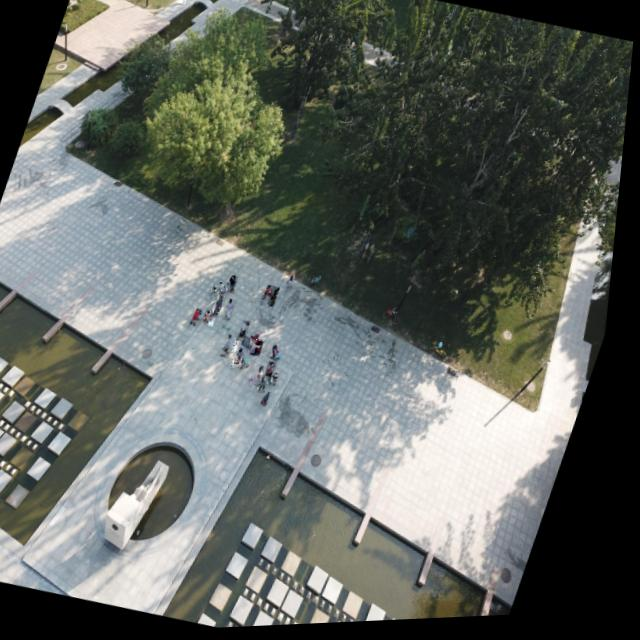Person: (225, 334, 242, 362), (216, 296, 231, 320), (229, 301, 244, 323), (254, 341, 271, 360), (272, 288, 286, 310), (243, 322, 257, 344), (270, 363, 284, 384), (261, 367, 273, 390), (264, 377, 277, 397), (231, 277, 244, 296), (254, 332, 270, 347), (240, 349, 252, 368), (220, 285, 233, 302), (208, 311, 219, 325), (236, 357, 245, 371), (270, 287, 279, 299), (213, 318, 222, 329), (238, 343, 246, 355), (177, 0, 190, 6), (229, 284, 236, 295), (216, 287, 223, 297)
